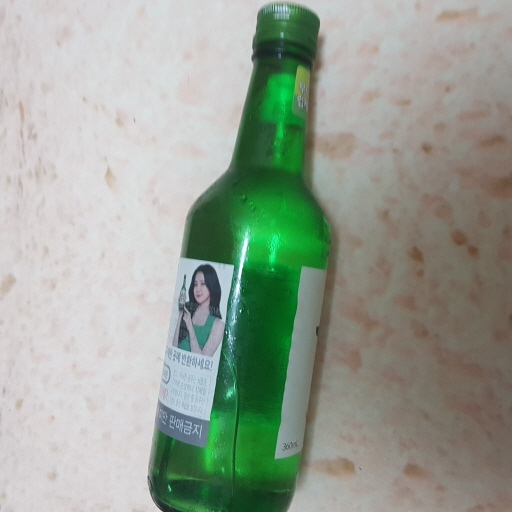Glass_0: (151, 1, 336, 512)
